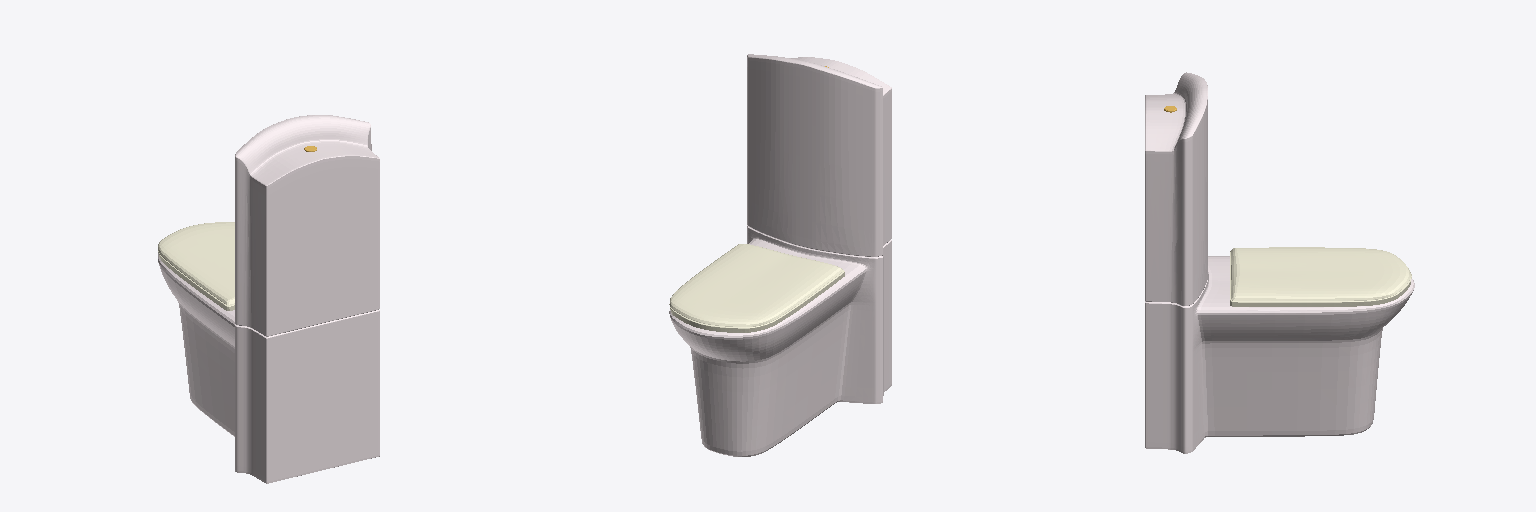
3 views of the same model, side by side, from view 1: azimuth 30°, elevation 25°; view 2: azimuth 150°, elevation 25°; view 3: azimuth 270°, elevation 25° (orthographic).
Visible parts, largest first — view 1: body001, lid001; view 2: body001, lid001; view 3: body001, lid001.
Part boxes in pixels (x1,y1,x2,y2): body001: (158,115,379,483); lid001: (158,222,234,310); body001: (669,54,891,456); lid001: (669,244,844,332); body001: (1145,72,1414,453); lid001: (1230,247,1411,306).
Size of the model in its own units: 133707 by 310909 by 230420.